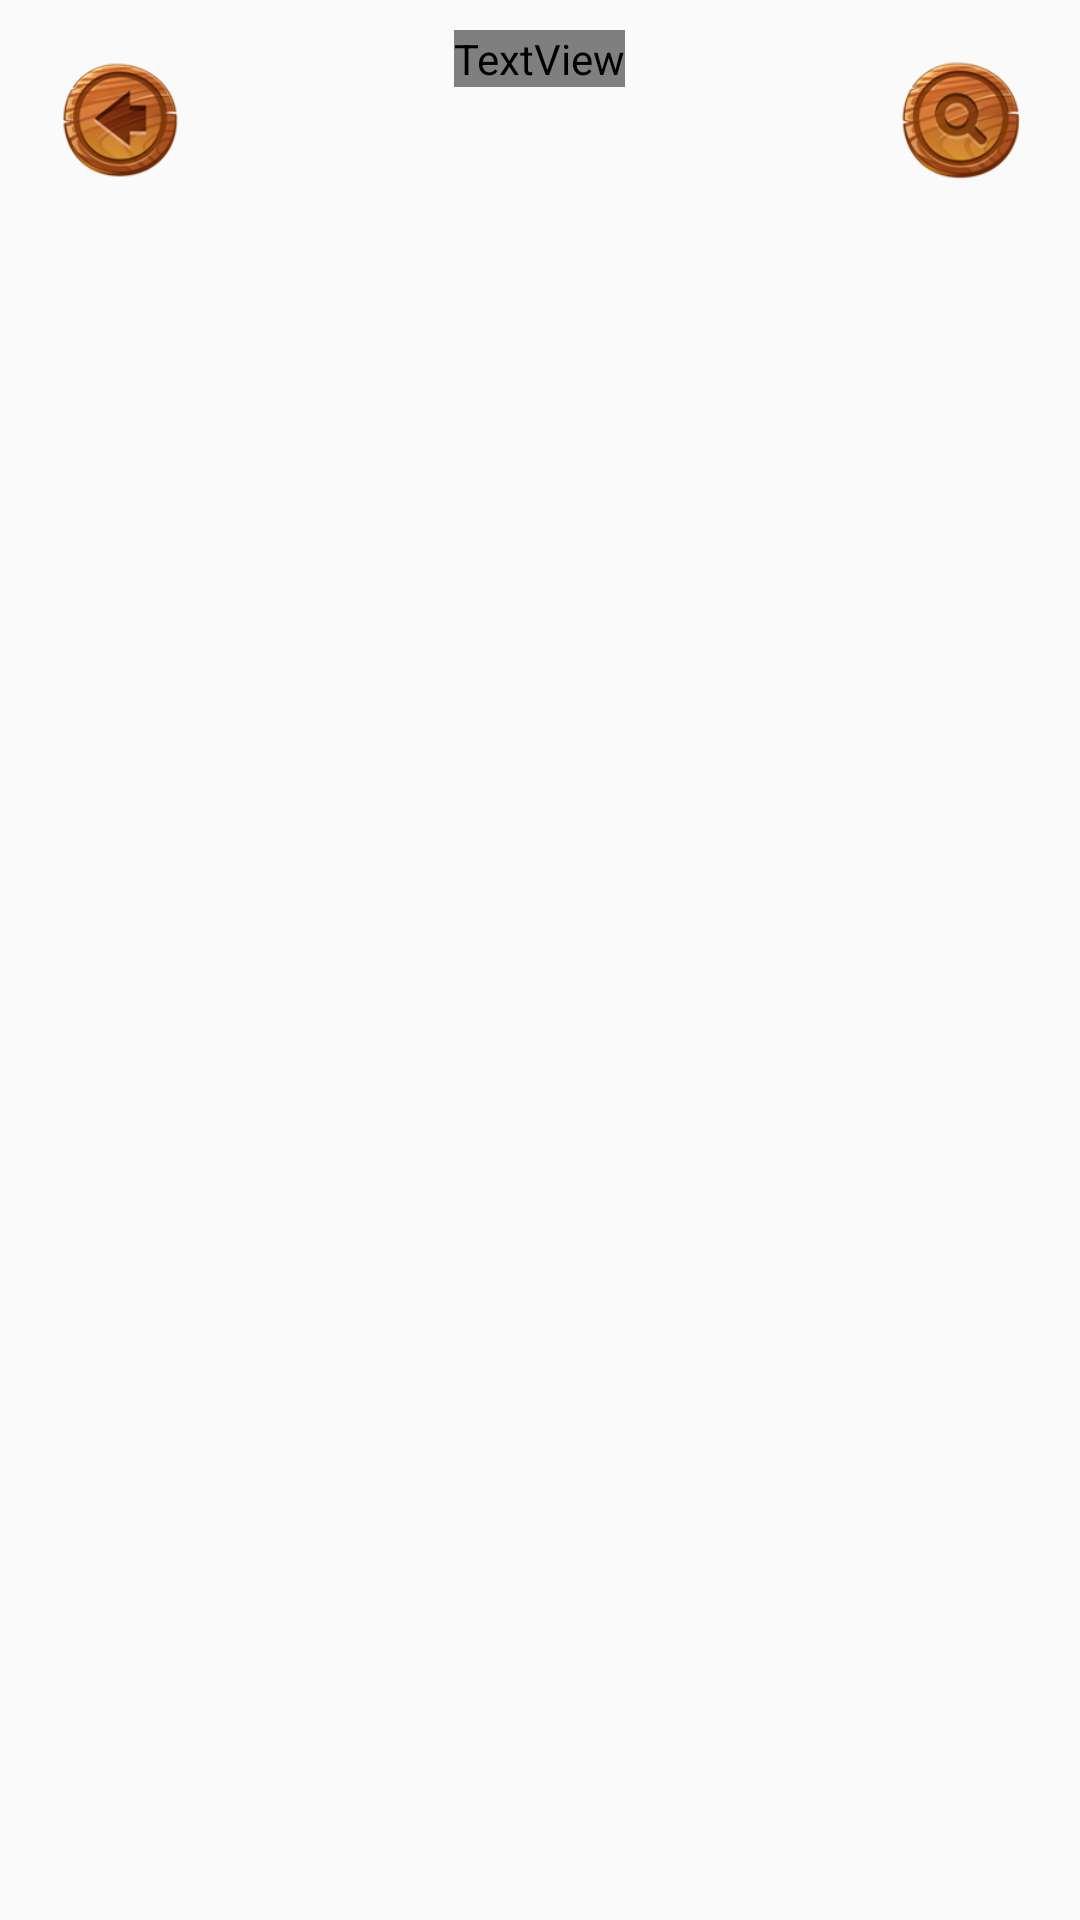

Icons on this 1080 x 1920 Android screen, each with its box as (x1, y1, x2, y2):
search: (902, 62, 1020, 179)
